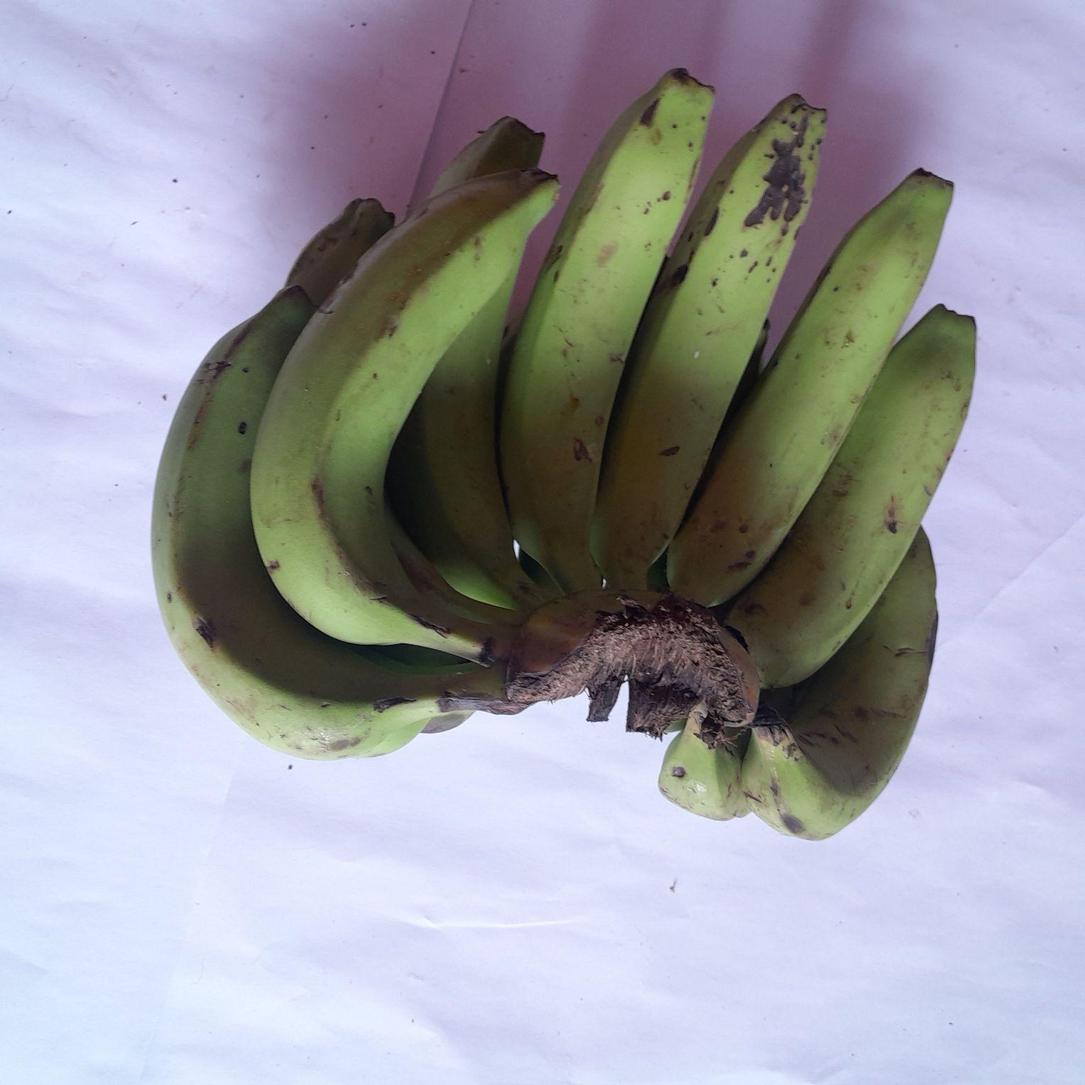Banana Unripe: (153, 286, 504, 759), (250, 170, 557, 662), (670, 170, 951, 604), (591, 95, 824, 589), (500, 70, 712, 592), (729, 307, 975, 686), (742, 534, 937, 839), (386, 273, 542, 611), (432, 117, 545, 195)
